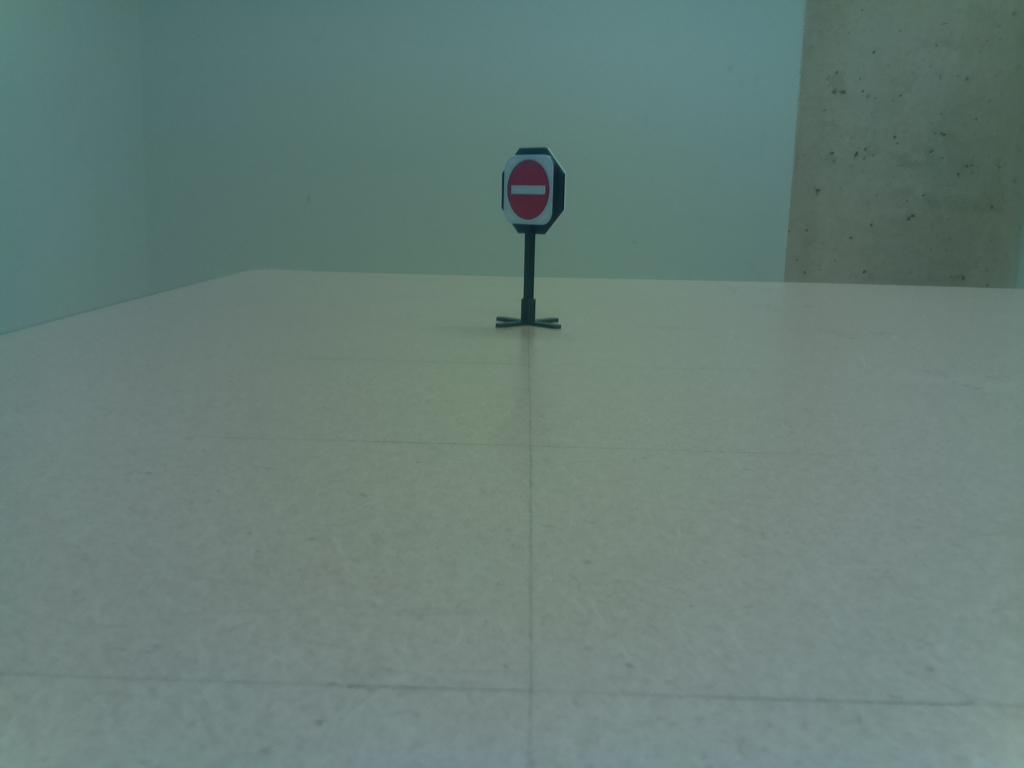sign_noentry: (491, 139, 571, 240)
